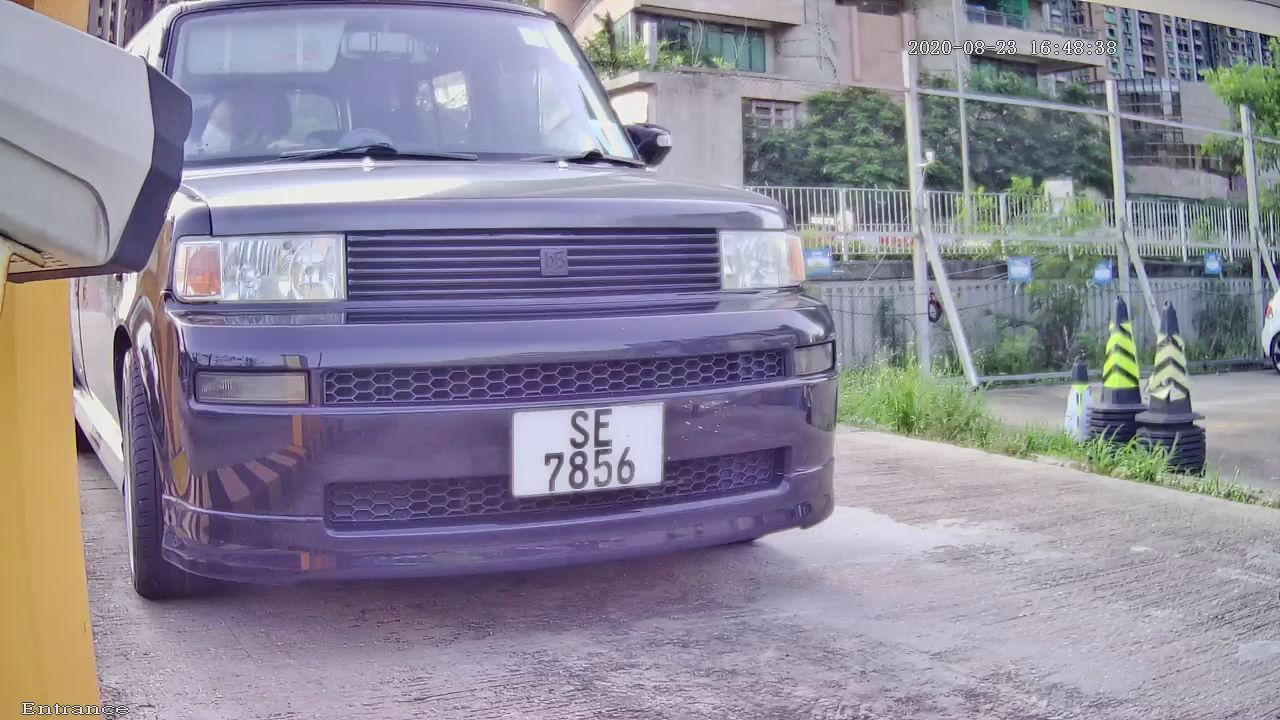Car: (12, 4, 926, 653)
License Plate: (474, 373, 721, 540)
